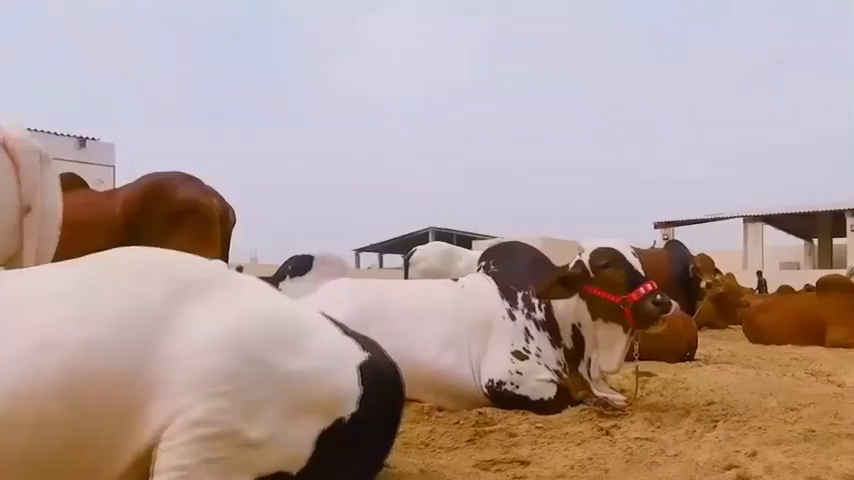bo: (8, 238, 412, 479), (304, 235, 676, 413), (57, 159, 238, 271), (472, 226, 716, 301), (2, 115, 68, 283), (746, 272, 854, 350), (629, 309, 706, 357), (701, 247, 746, 312)
